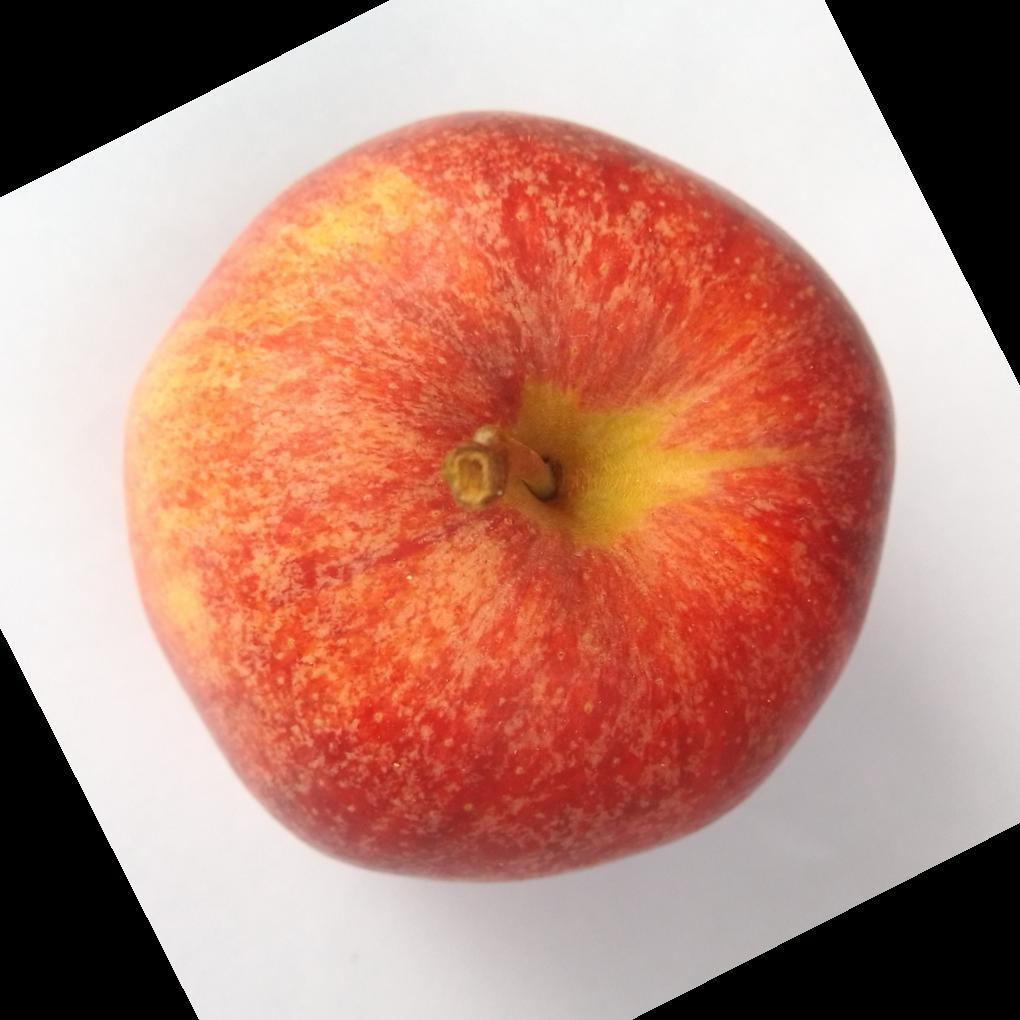FreshGuava: (120, 111, 896, 887)
